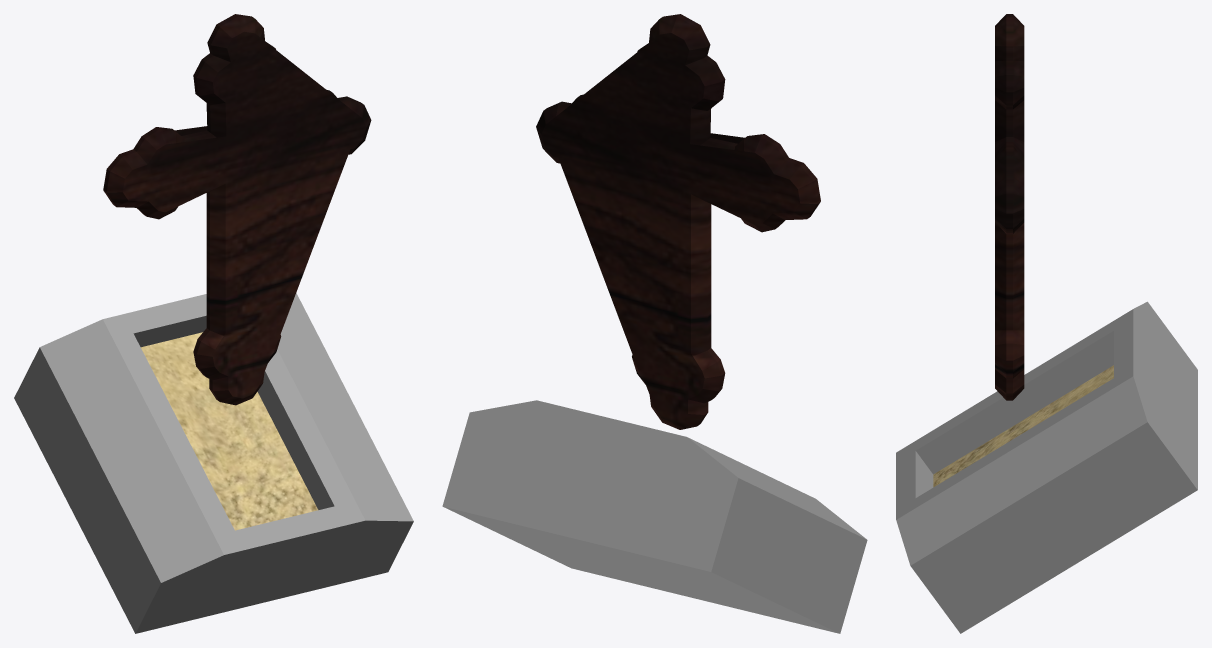
The model's file is Crucifijo.fbx.
The picture shows the model from 3 angles, left to right: view 1: azimuth 30°, elevation 25°; view 2: azimuth 150°, elevation 25°; view 3: azimuth 270°, elevation 25°; orthographic projection. The views are drawn at different scales.
Parts seen in each view (by area): view 1: Cube.007, Crucifijo, Cube.012; view 2: Cube.007, Crucifijo; view 3: Cube.007, Crucifijo, Cube.012.
Part boxes in pixels (left/top/right/bottom): Cube.007: left=14, top=293, right=413, bottom=633; Crucifijo: left=103, top=14, right=371, bottom=405; Cube.012: left=141, top=332, right=318, bottom=530; Cube.007: left=442, top=400, right=867, bottom=633; Crucifijo: left=536, top=14, right=820, bottom=429; Cube.007: left=896, top=301, right=1197, bottom=633; Crucifijo: left=995, top=14, right=1024, bottom=400; Cube.012: left=933, top=365, right=1113, bottom=487.
Bounding box in the file's own units: 0.5609 × 1.15 × 0.5663.
